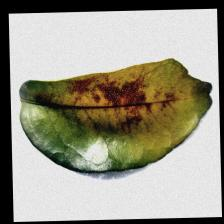black spot: (57, 70, 168, 134)
